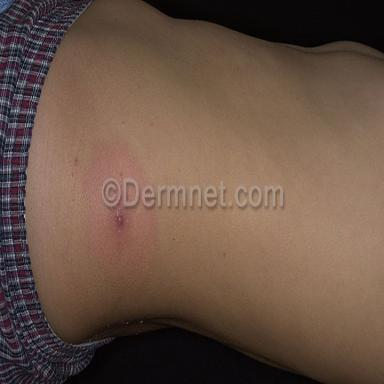Molluscum-Contagiosum: (117, 214, 123, 225), (151, 123, 154, 128), (122, 122, 124, 127)
